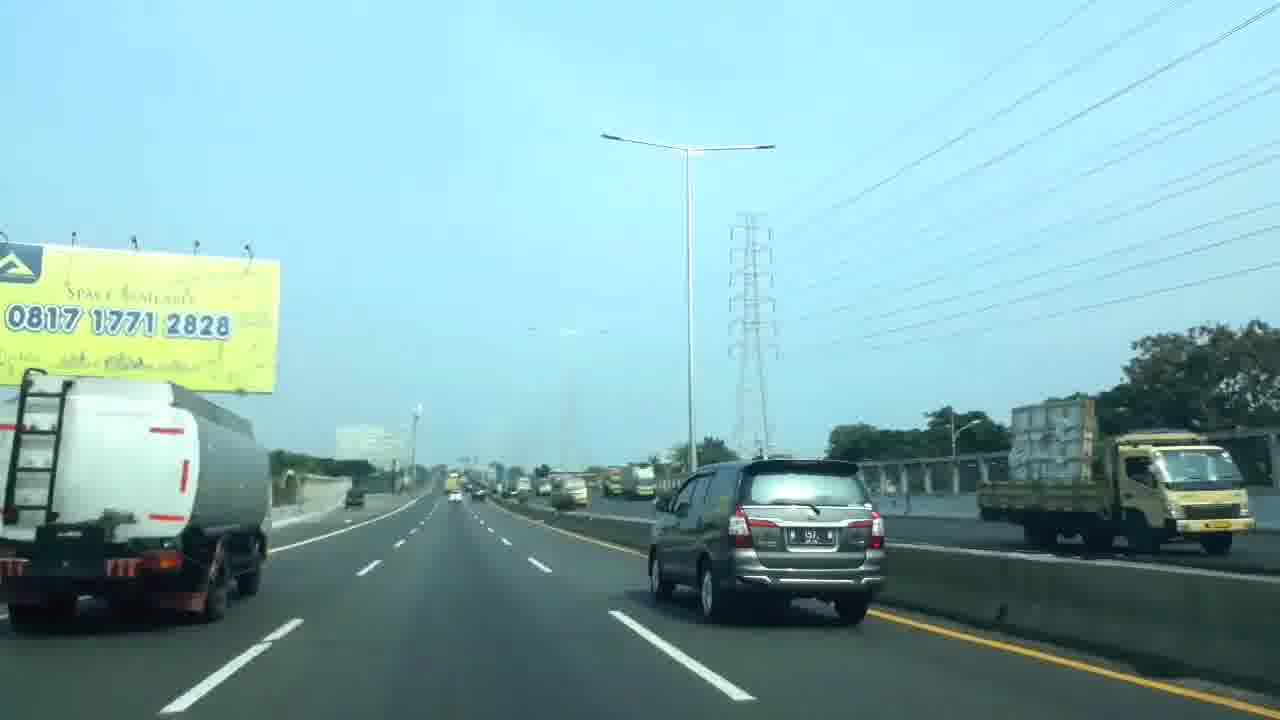plate_positive: (788, 528, 836, 547)
